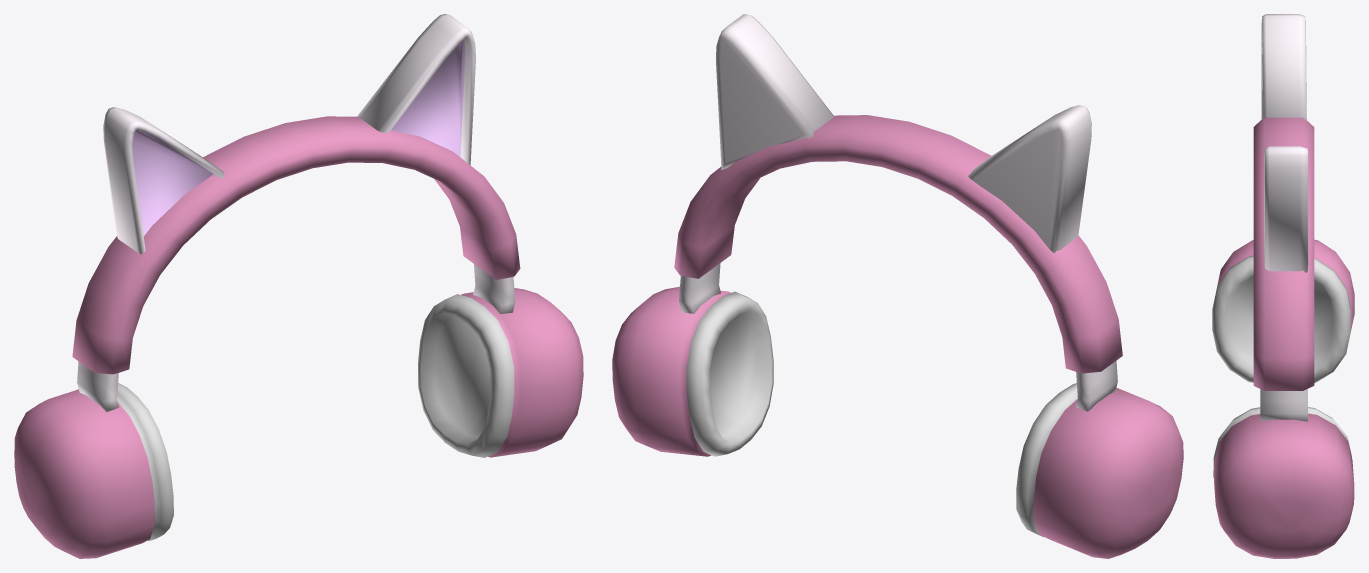
The model's file is headphone.fbx.
3 views of the same model, side by side, from view 1: azimuth 30°, elevation 25°; view 2: azimuth 150°, elevation 25°; view 3: azimuth 270°, elevation 25° (orthographic). The views are drawn at different scales.
Visible parts, largest first — view 1: hair; view 2: hair; view 3: hair.
Boxes of the visible parts, left/top/right/bottom form: hair: left=14, top=14, right=583, bottom=558; hair: left=612, top=14, right=1183, bottom=558; hair: left=1212, top=14, right=1354, bottom=558.
Bounding box in the file's own units: 51.96 × 40.49 × 13.68.
